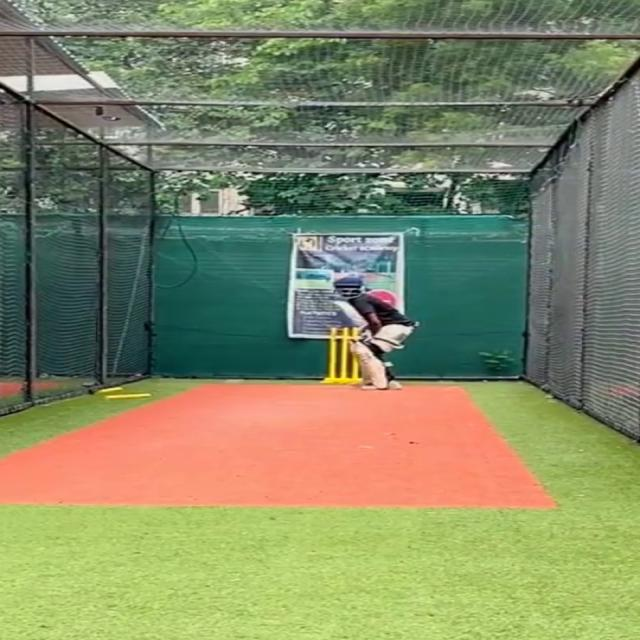stump: (325, 325, 360, 382)
